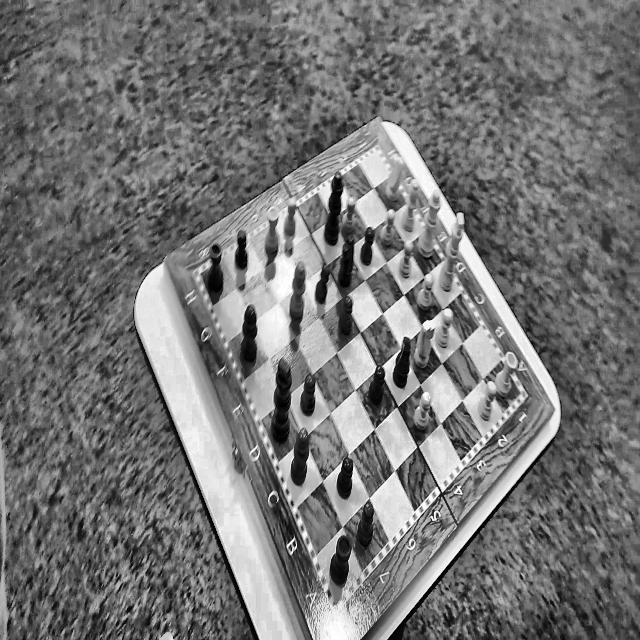chessboard: (201, 151, 519, 597)
